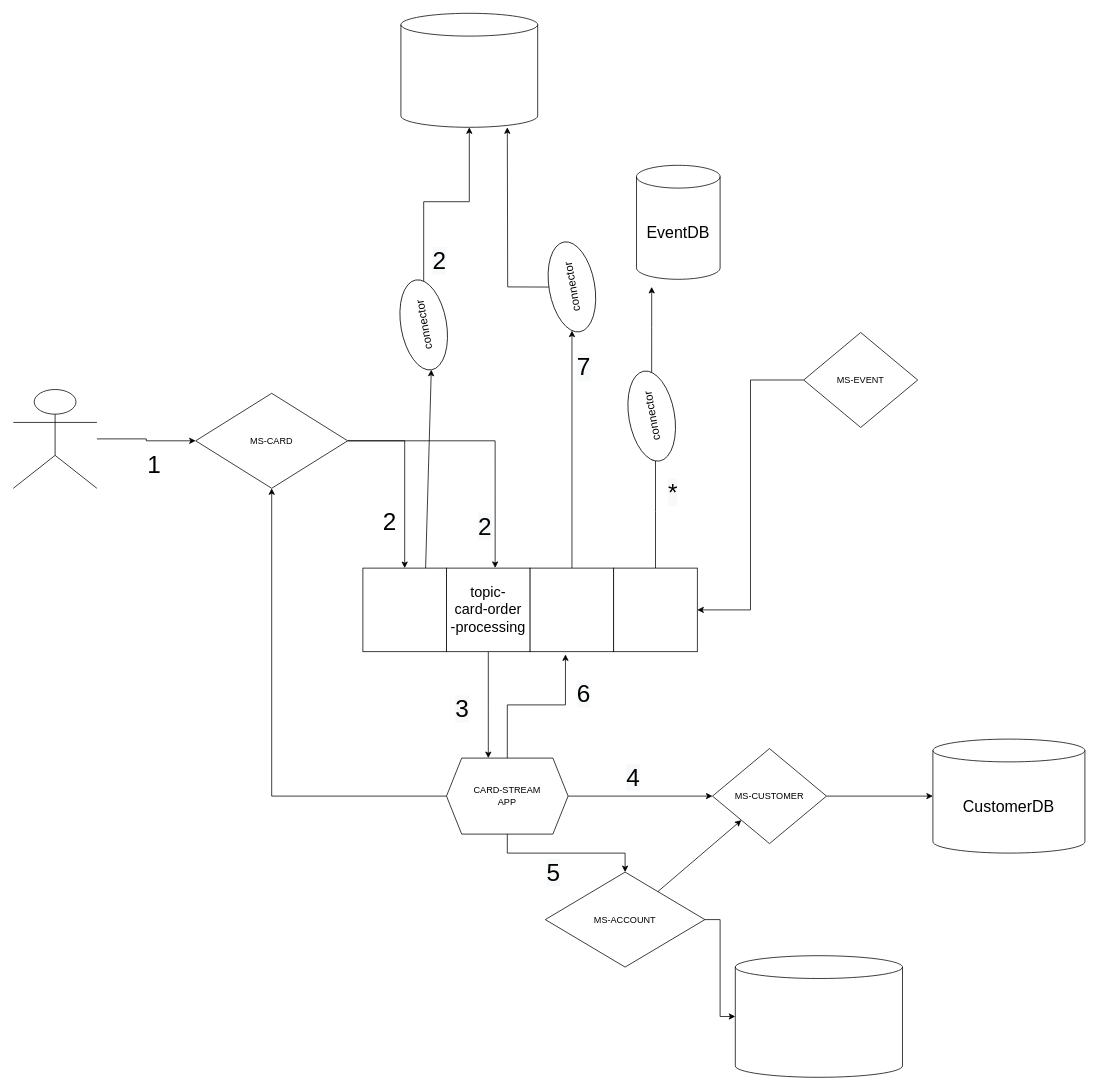
This 1098x1091 diagram has some shape labels left out. The centre of each missing label's shape, as x and y in pixels:
"AccountDB" belongs at point 818,1016.
"Actor" belongs at point 55,438.
"CardDB" belongs at point 469,70.
"topic- card-order -processed" belongs at point 571,609.
"topic- card-order -storage" belongs at point 404,609.
"topic- event -storage" belongs at point 655,609.
